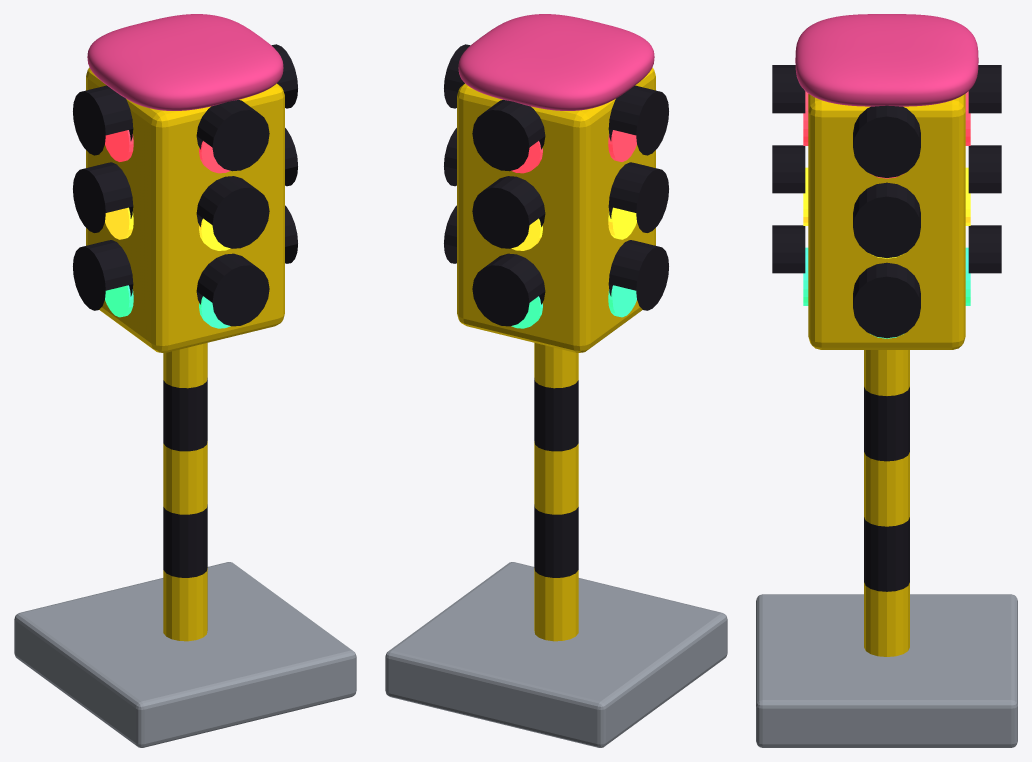
File: semaforo.glb
3 views of the same model, side by side, from view 1: azimuth 30°, elevation 25°; view 2: azimuth 150°, elevation 25°; view 3: azimuth 270°, elevation 25° (orthographic). The views are drawn at different scales.
Visible parts, largest first — view 1: base, caja, tapa, visera01, visera02, visera00, visera32, visera31, visera30, poste2, poste3, poste1 (+8 smaller); view 2: base, caja, tapa, visera21, visera22, visera20, visera32, visera31, visera30, poste2, poste3, poste1 (+8 smaller); view 3: base, caja, tapa, visera12, visera11, visera10, poste1, poste0, poste2, poste3, poste4, visera01 (+5 smaller).
Boxes of the visible parts, left/top/right/bottom form: base: left=14, top=562, right=356, bottom=747; caja: left=86, top=67, right=284, bottom=352; tapa: left=87, top=14, right=283, bottom=110; visera01: left=196, top=176, right=269, bottom=248; visera02: left=196, top=253, right=269, bottom=326; visera00: left=196, top=100, right=269, bottom=171; visera32: left=73, top=240, right=133, bottom=310; visera31: left=73, top=162, right=133, bottom=232; visera30: left=73, top=85, right=133, bottom=155; poste2: left=163, top=441, right=207, bottom=514; poste3: left=163, top=378, right=207, bottom=451; poste1: left=163, top=504, right=207, bottom=577; base: left=385, top=562, right=727, bottom=747; caja: left=457, top=67, right=655, bottom=352; tapa: left=458, top=14, right=654, bottom=110; visera21: left=472, top=176, right=545, bottom=248; visera22: left=472, top=253, right=545, bottom=326; visera20: left=472, top=100, right=545, bottom=171; visera32: left=608, top=240, right=668, bottom=310; visera31: left=608, top=162, right=668, bottom=232; visera30: left=608, top=85, right=668, bottom=155; poste2: left=534, top=441, right=578, bottom=514; poste3: left=534, top=378, right=578, bottom=451; poste1: left=534, top=504, right=578, bottom=577; base: left=756, top=594, right=1017, bottom=747; caja: left=808, top=94, right=965, bottom=349; tapa: left=795, top=14, right=978, bottom=106; visera12: left=853, top=262, right=920, bottom=338; visera11: left=853, top=182, right=920, bottom=257; visera10: left=853, top=105, right=920, bottom=177; poste1: left=864, top=517, right=909, bottom=591; poste0: left=864, top=582, right=909, bottom=656; poste2: left=864, top=452, right=909, bottom=526; poste3: left=864, top=387, right=909, bottom=461; poste4: left=864, top=350, right=909, bottom=395; visera01: left=772, top=145, right=805, bottom=193.
Size of the model in its own units: 0.4 by 1.1 by 0.4.
